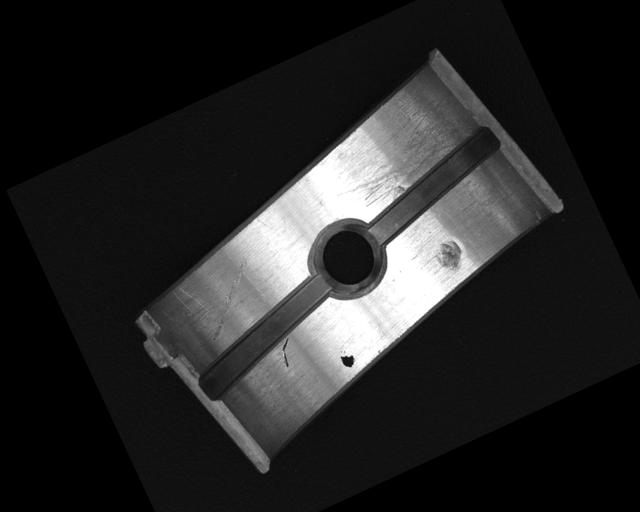blot: (336, 346, 358, 370)
bruise: (429, 235, 468, 276)
gap: (179, 272, 352, 404), (346, 124, 518, 250)
hole: (301, 210, 395, 306)
nick: (184, 256, 272, 344), (274, 336, 300, 369)
scratch: (311, 85, 493, 225)
